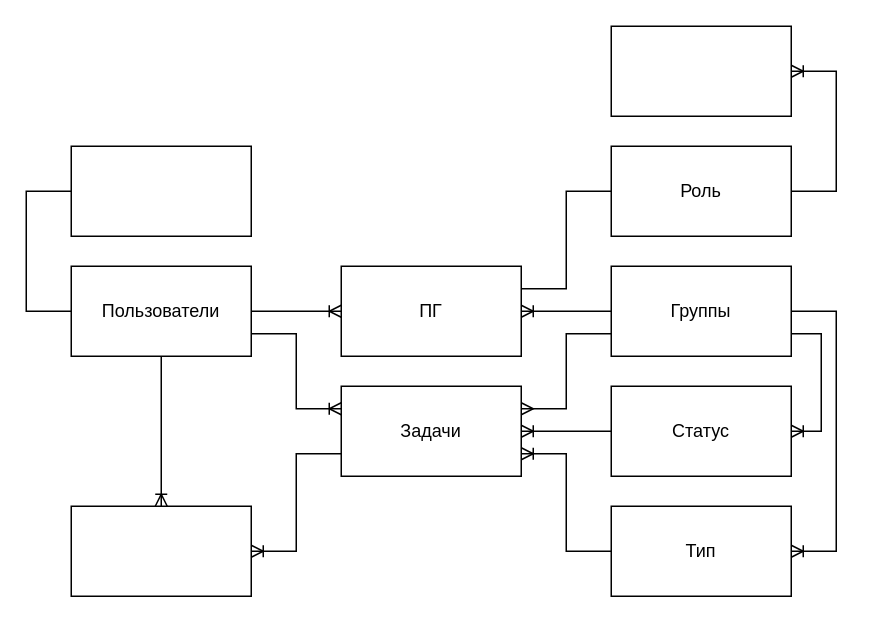
This 875x623 diagram has some shape labels left out. The shapes that lost their labels are listed below. From the top down, each one's centre as x and y in pixels, then its label:
pixel 700 70: Права
pixel 160 190: Профиль
pixel 160 550: Комментарии
